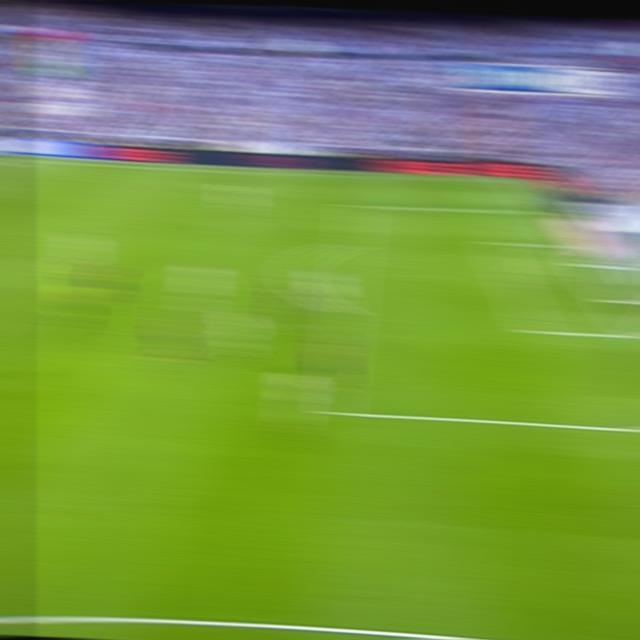bigarea_bottom_inner: (521, 318, 548, 340)
bigarea_top_inner: (483, 236, 507, 250)
smallarea_bottom_outter: (621, 322, 640, 344)
smallarea_top_outter: (553, 236, 577, 249)
